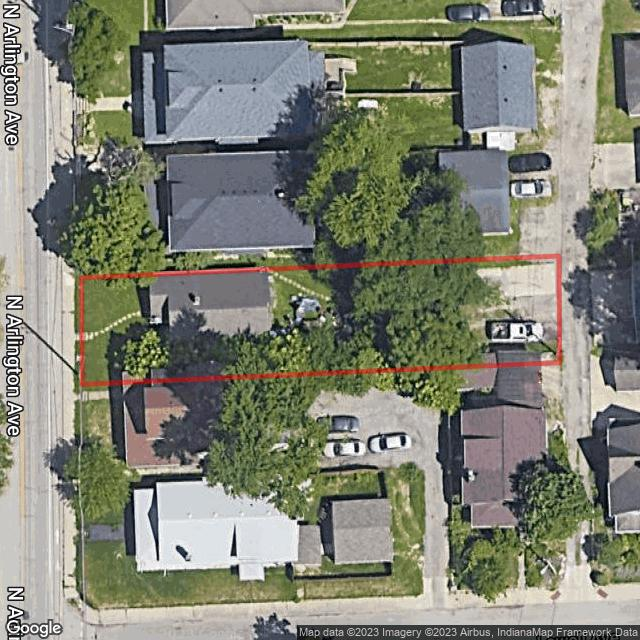Driveway: (460, 259, 558, 352)
Extra Lawn: (75, 277, 80, 333), (75, 341, 80, 386)
Extra Sidewalk: (75, 333, 80, 341)
House: (150, 272, 271, 347)
Sidewalk: (85, 312, 150, 341), (273, 273, 329, 301)
